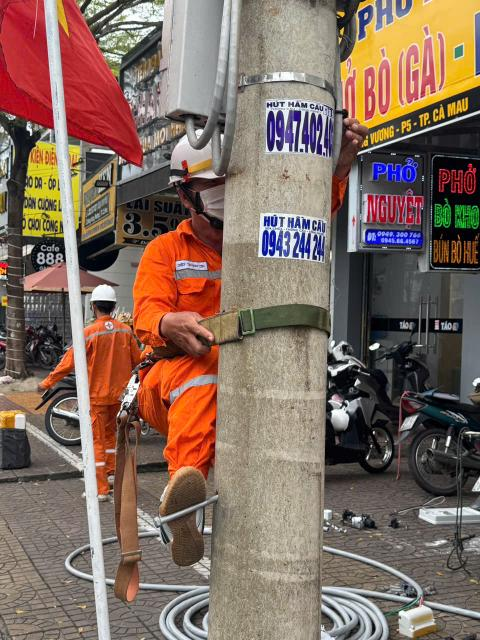harness: (135, 308, 342, 375)
helmet: (163, 128, 237, 189), (88, 281, 124, 308)
shoes: (143, 466, 220, 580), (94, 466, 125, 491), (70, 488, 112, 504)
